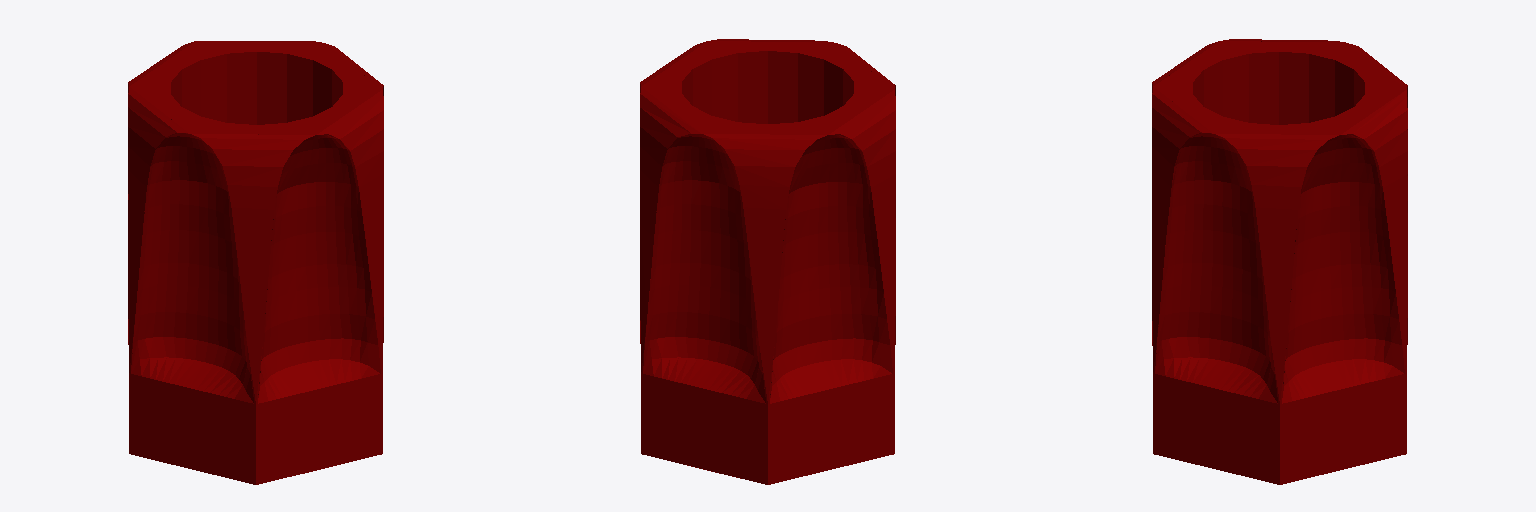
The picture shows the model from 3 angles: view 1: azimuth 30°, elevation 25°; view 2: azimuth 150°, elevation 25°; view 3: azimuth 270°, elevation 25°; orthographic projection.
Visible parts, largest first — view 1: Bullone_1; view 2: Bullone_1; view 3: Bullone_1.
Boxes of the visible parts, <box> form: Bullone_1: <box>128,41,383,484</box>; Bullone_1: <box>640,39,895,484</box>; Bullone_1: <box>1152,39,1407,484</box>.
Bounding box in the file's own units: 0.2348 × 0.2976 × 0.2052.